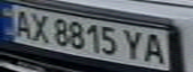1: (81, 21, 103, 53)
5: (100, 24, 121, 57)
8: (48, 16, 69, 47), (66, 19, 84, 51)
A: (139, 30, 169, 65), (9, 7, 36, 39)
X: (27, 11, 54, 44)
Y: (121, 28, 148, 61)
